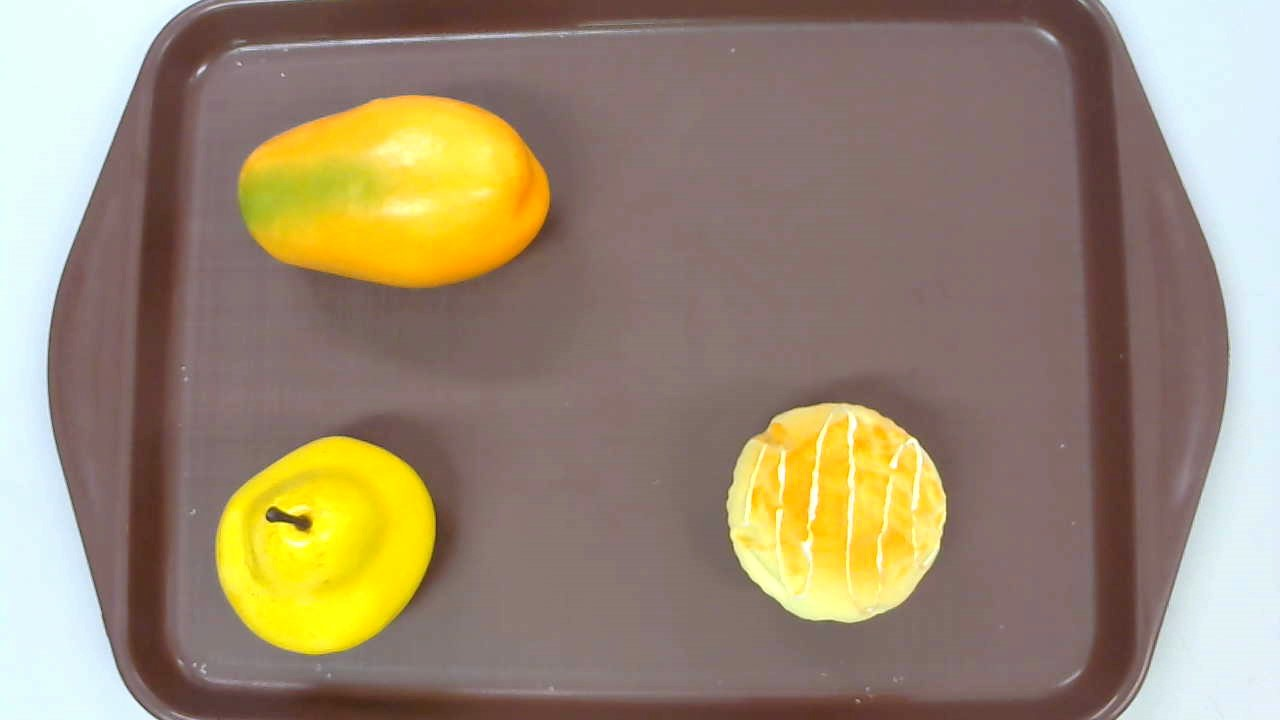cupcake: (726, 403, 947, 624)
papya: (237, 93, 549, 291)
yellow pear: (214, 434, 435, 653)
